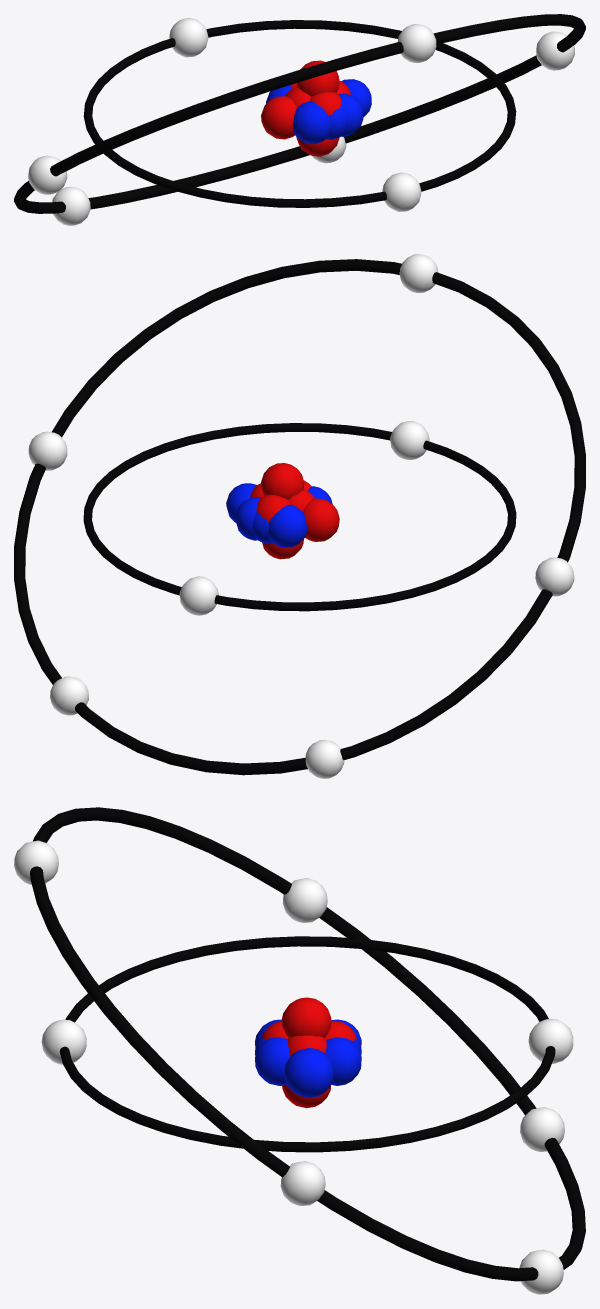
Rendered from 7 Nitrogeno.fbx.
The picture shows the model from 3 angles, top to bottom: view 1: azimuth 30°, elevation 25°; view 2: azimuth 150°, elevation 25°; view 3: azimuth 270°, elevation 25°; orthographic projection. The views are drawn at different scales.
Parts seen in each view (by area): view 1: Orbita.002, Orbita.001, Sphere.008, Sphere.012, Electron.004, Electron.001, Electron.002, Electron.003, Electron.005, Electron.006, Sphere.007, Sphere.009 (+6 smaller); view 2: Orbita.002, Orbita.001, Sphere, Sphere.012, Sphere.007, Electron.001, Electron.003, Electron.004, Electron.005, Electron.006, Electron.002, Electron.007 (+1 smaller); view 3: Orbita.002, Orbita.001, Sphere.013, Sphere.007, Electron.006, Electron.005, Electron.003, Electron.004, Electron.001, Electron.002, Electron.007, Sphere.009 (+1 smaller).
Part boxes in pixels (x1,y1,x2,y2): Orbita.002: (14, 14, 585, 213); Orbita.001: (83, 20, 516, 207); Sphere.008: (293, 101, 330, 144); Sphere.012: (261, 96, 297, 139); Electron.004: (382, 172, 421, 211); Electron.001: (169, 18, 208, 57); Electron.002: (397, 24, 436, 62); Electron.003: (52, 186, 90, 225); Electron.005: (28, 155, 67, 194); Electron.006: (536, 31, 574, 70); Sphere.007: (296, 60, 339, 96); Sphere.009: (339, 93, 363, 136); Orbita.002: (14, 259, 585, 775); Orbita.001: (83, 423, 516, 611); Sphere: (268, 504, 307, 547); Sphere.012: (303, 498, 339, 541); Sphere.007: (260, 463, 304, 499); Electron.001: (179, 576, 218, 615); Electron.003: (305, 739, 344, 778); Electron.004: (390, 421, 429, 459); Electron.005: (535, 557, 574, 596); Electron.006: (28, 431, 67, 470); Electron.002: (399, 254, 438, 293); Electron.007: (50, 676, 88, 715); Orbita.002: (30, 807, 585, 1281); Orbita.001: (59, 936, 555, 1152); Sphere.013: (284, 1048, 333, 1097); Sphere.007: (281, 997, 331, 1037); Electron.006: (280, 1161, 325, 1205); Electron.005: (282, 878, 327, 922); Electron.003: (520, 1107, 564, 1151); Electron.004: (41, 1019, 86, 1064); Electron.001: (528, 1019, 573, 1063); Electron.002: (14, 840, 58, 885); Electron.007: (519, 1249, 563, 1294); Sphere.009: (255, 1037, 289, 1085).
Size of the model in its own units: 8.55 by 10.74 by 6.4.
